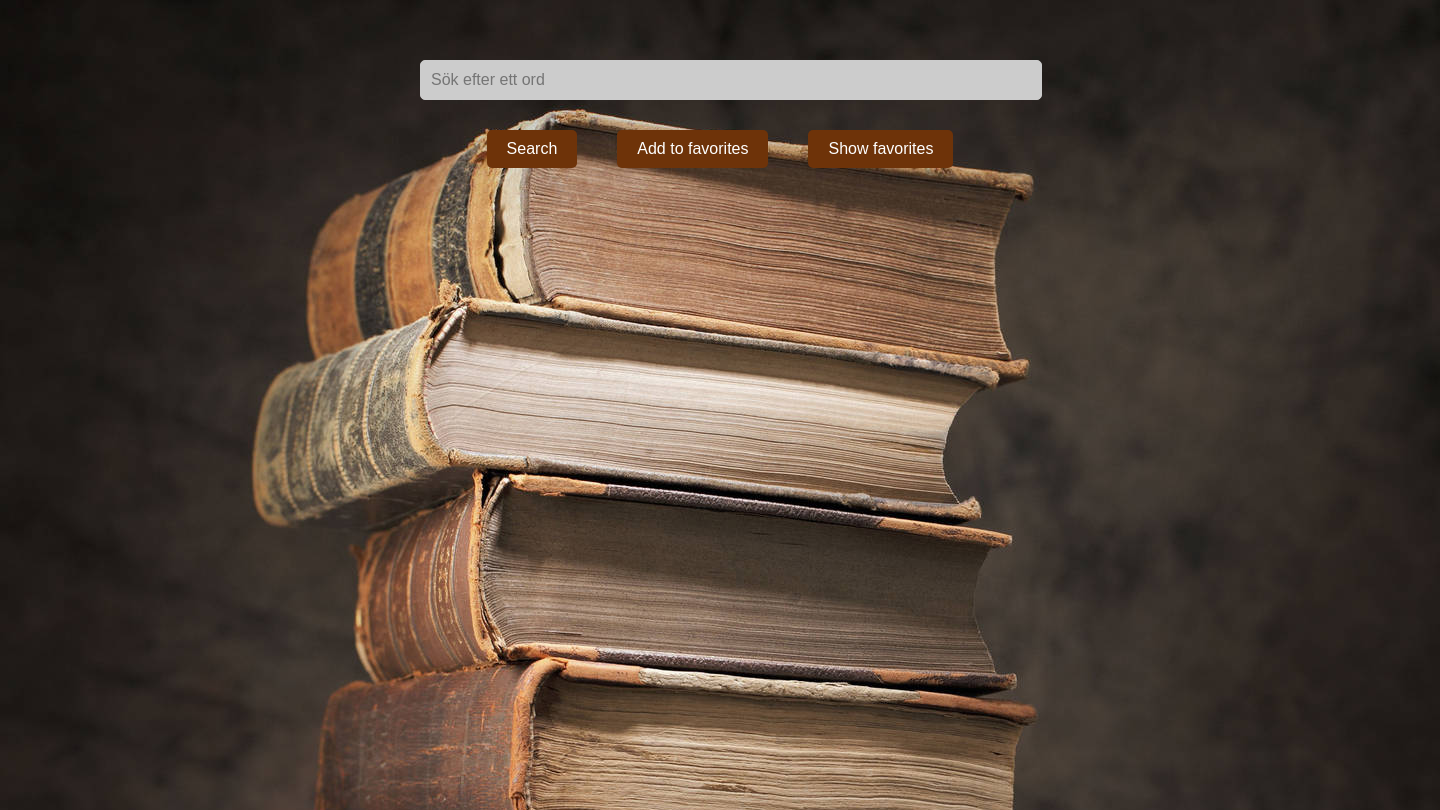
Create Dictionary Button Tests › show favorites button should toggle show Favorites
Note: Hitta "Show favorites" -knappen och klicka på den
Click the button "Show favorites": [881, 149] box [808,130,953,168]
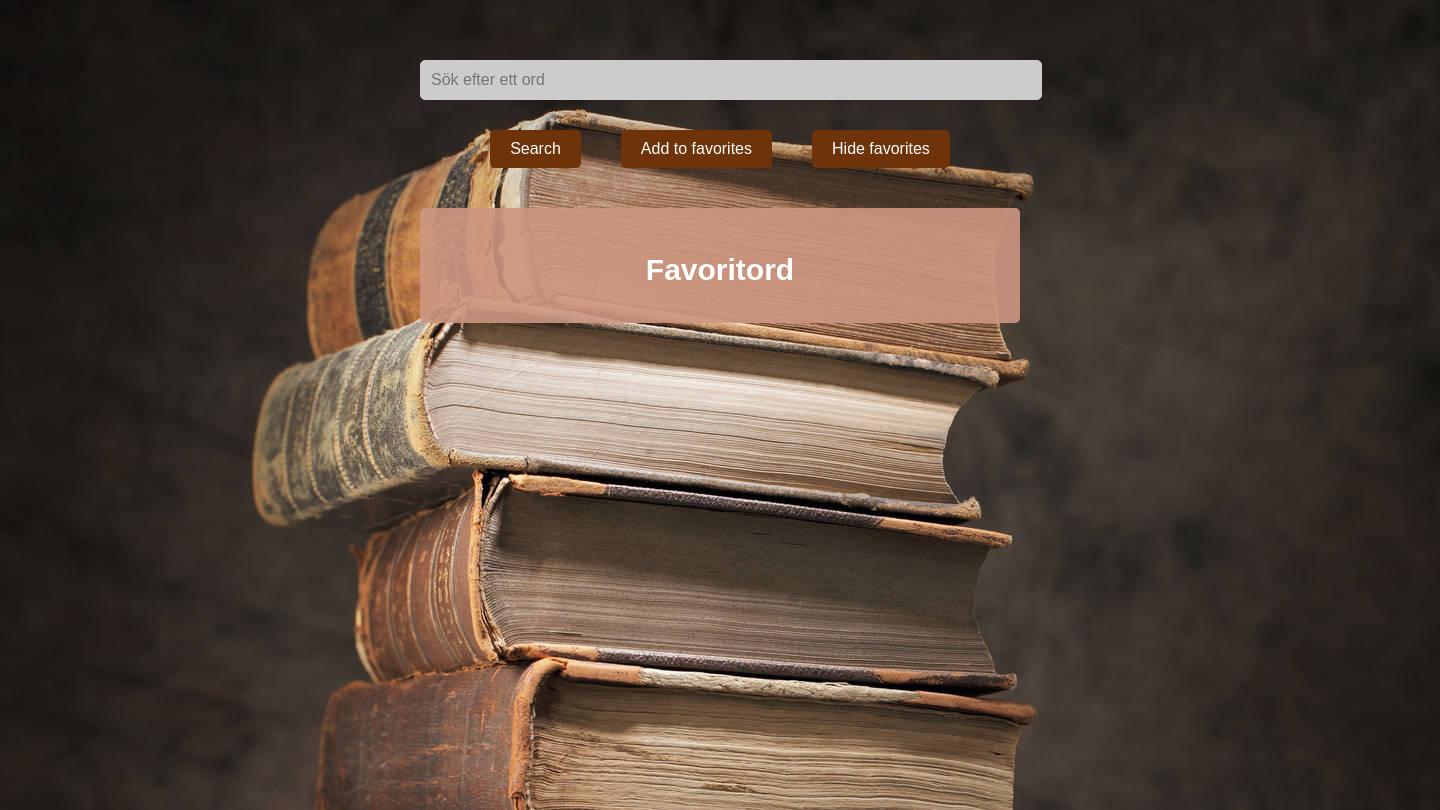
Check: the heading "Favoritord" is shown, box [646,253,794,286]
Note: Hitta "Hide favorites" -knappen och klicka på den
Click the button "Hide favorites": [881, 149] box [812,130,950,168]
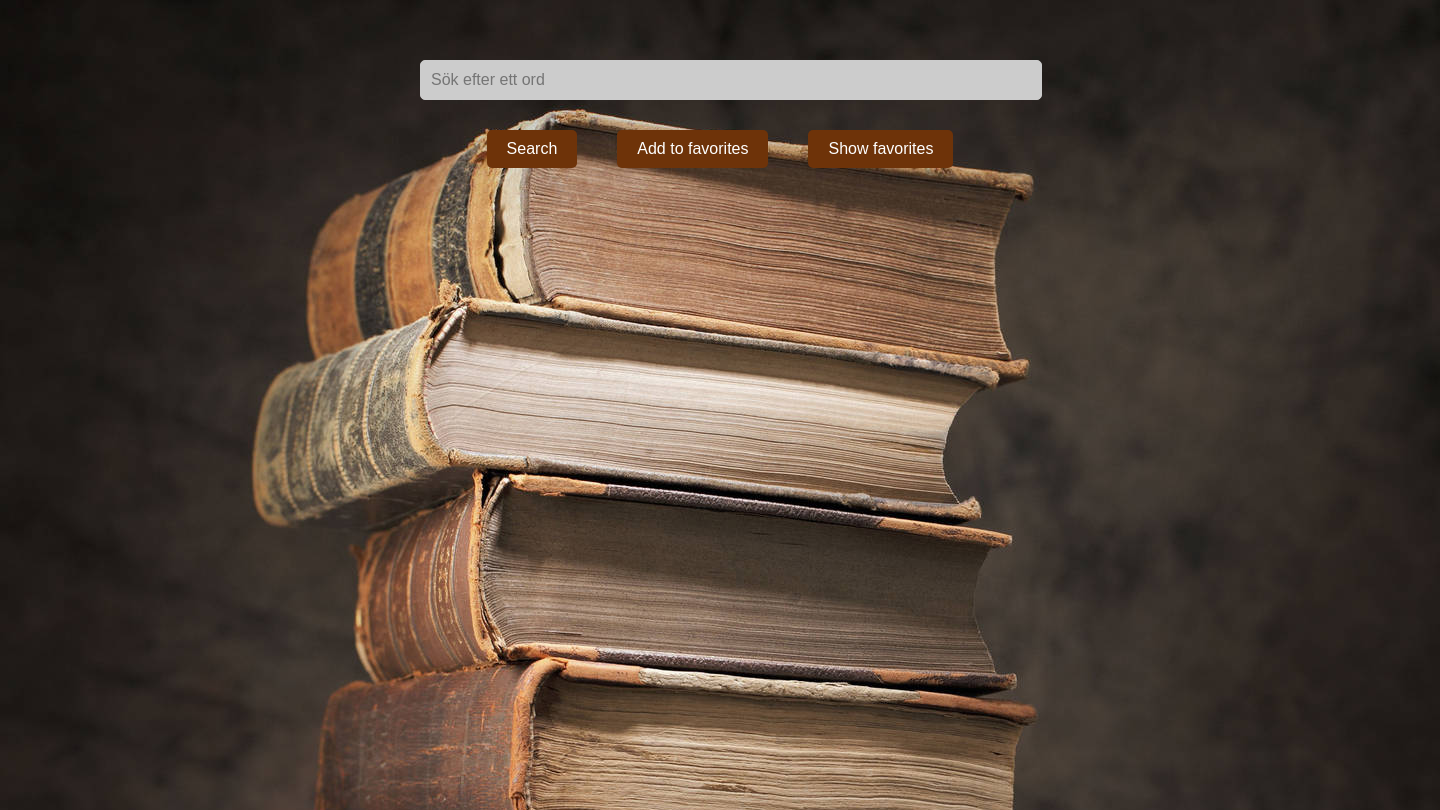
Check: the heading "Favoritord" is gone
